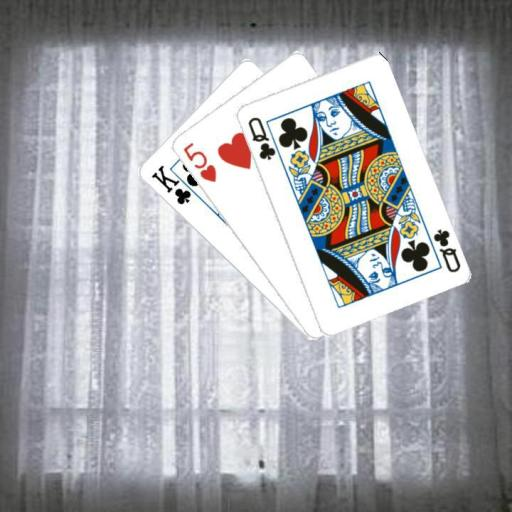5H: (179, 139, 218, 184)
KC: (148, 162, 201, 207)
QC: (244, 113, 277, 161), (430, 225, 462, 274)
